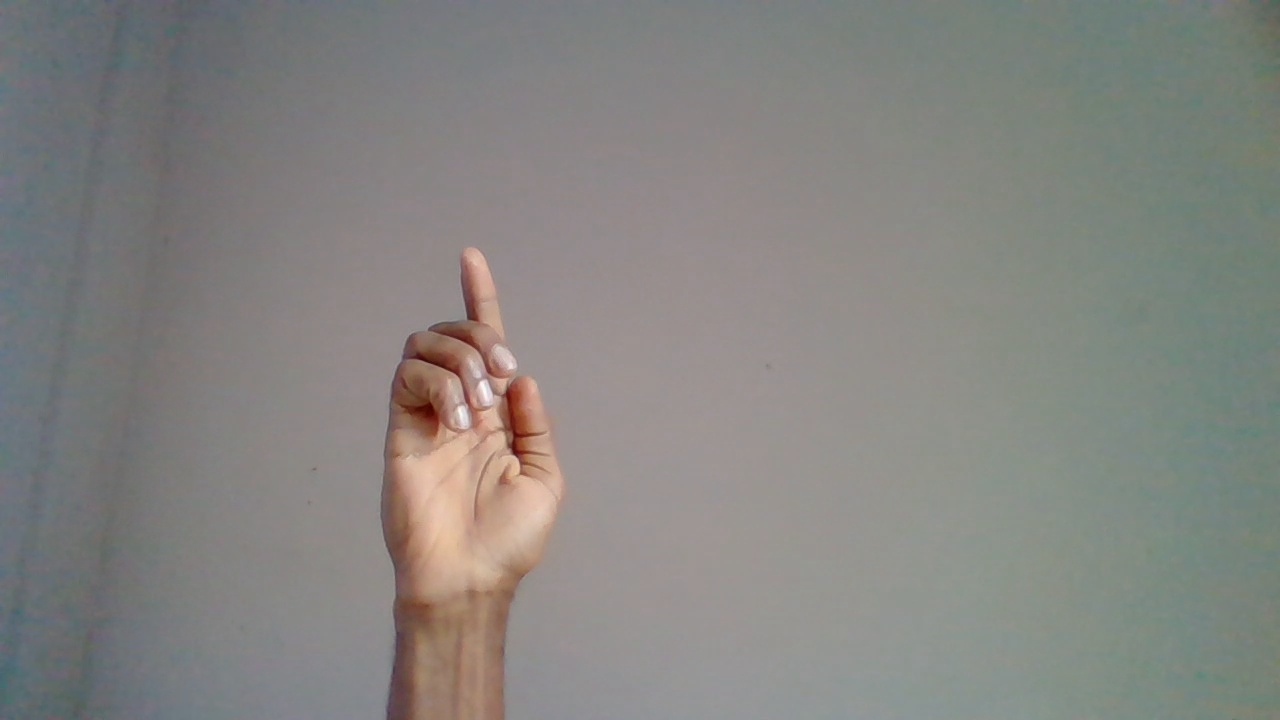qe: (385, 243, 561, 671)
